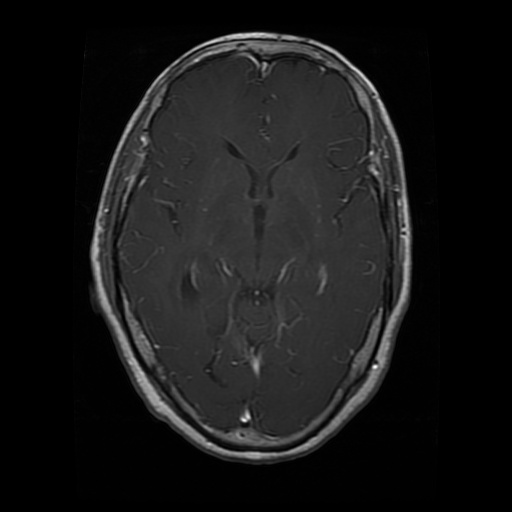glioma: (172, 258, 201, 301)
